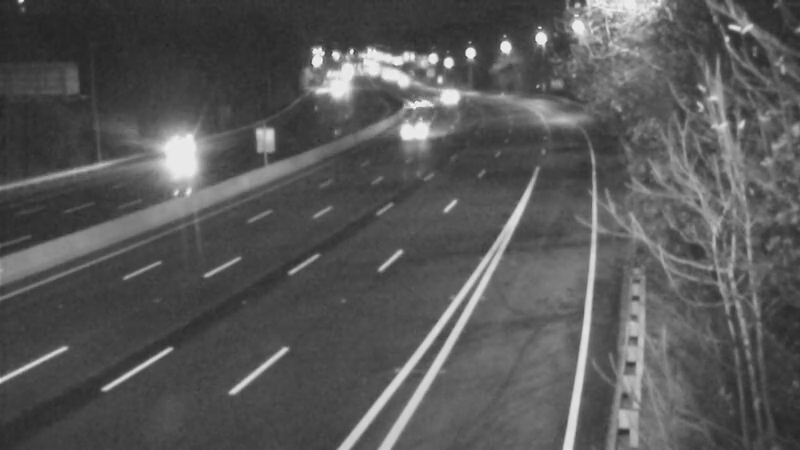vehicle: (420, 67, 470, 117), (391, 79, 441, 129), (386, 99, 436, 149), (149, 122, 199, 172)
